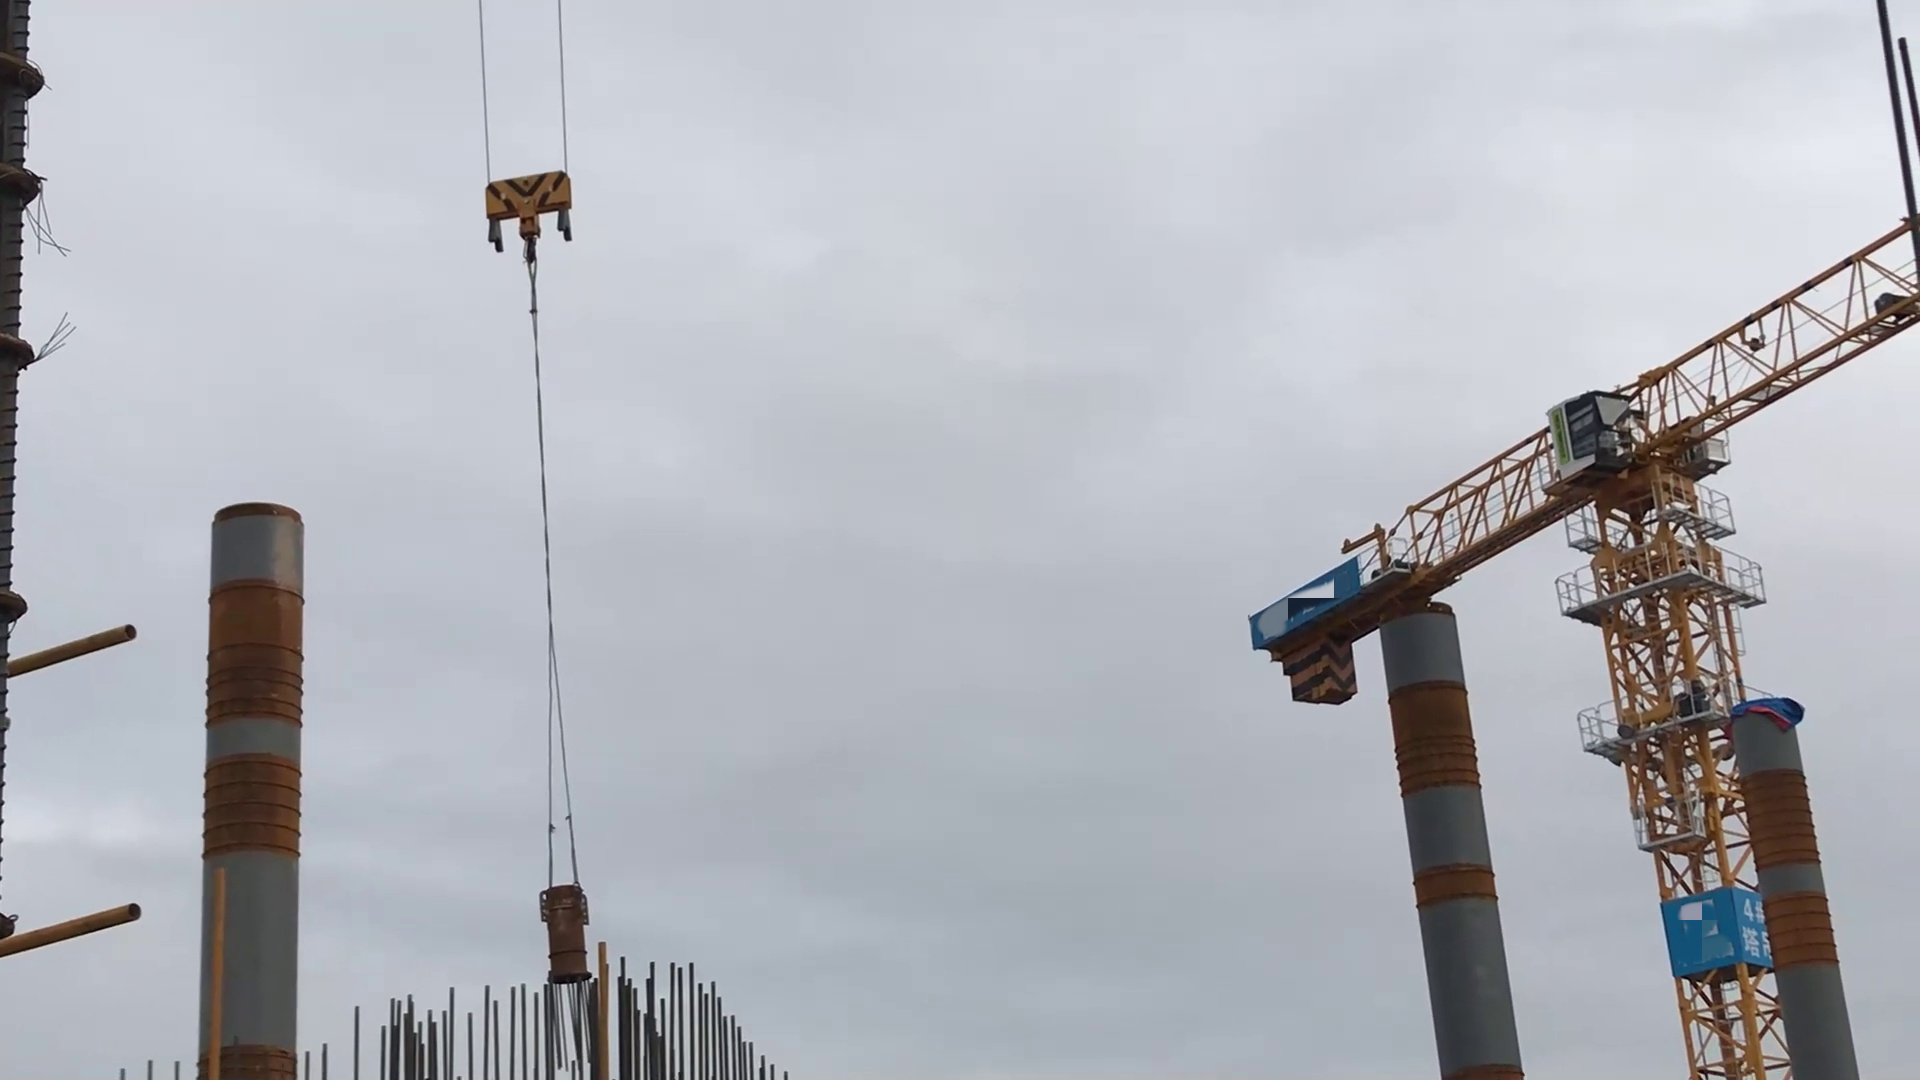hook: (481, 171, 578, 251)
